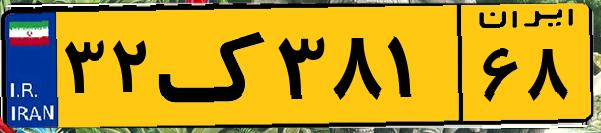1: (385, 28, 445, 110)
2: (110, 28, 158, 98)
3: (270, 28, 330, 110), (57, 26, 110, 100)
6: (475, 38, 525, 113)
8: (330, 28, 385, 110), (525, 38, 570, 115)
ک: (158, 12, 270, 120)
